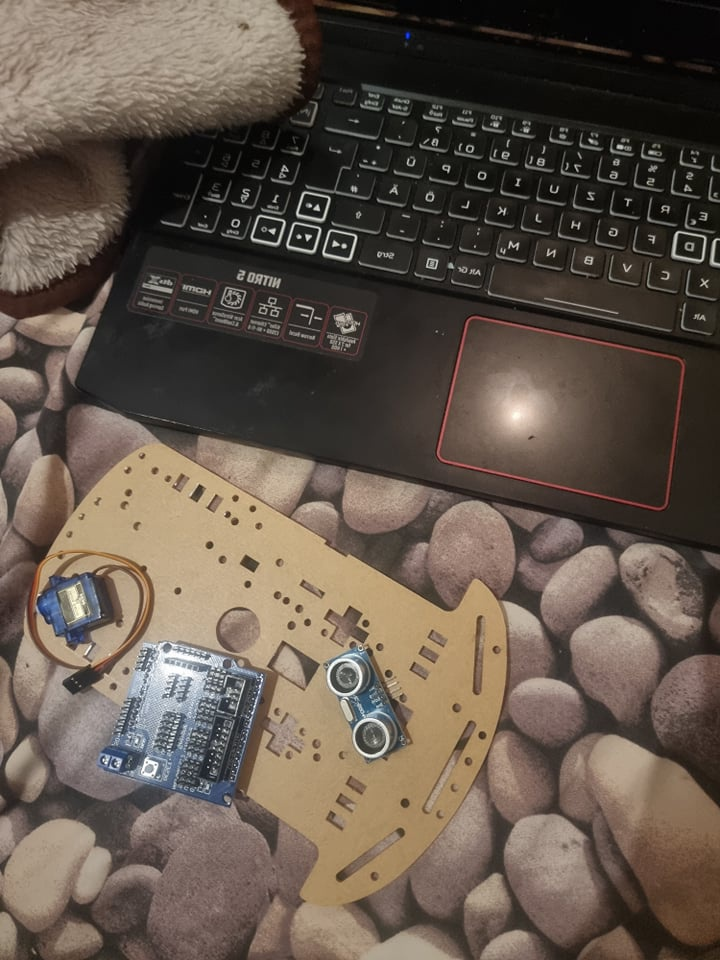5V EXPANSION: (97, 643, 264, 811)
SENSOR: (321, 645, 413, 761)
